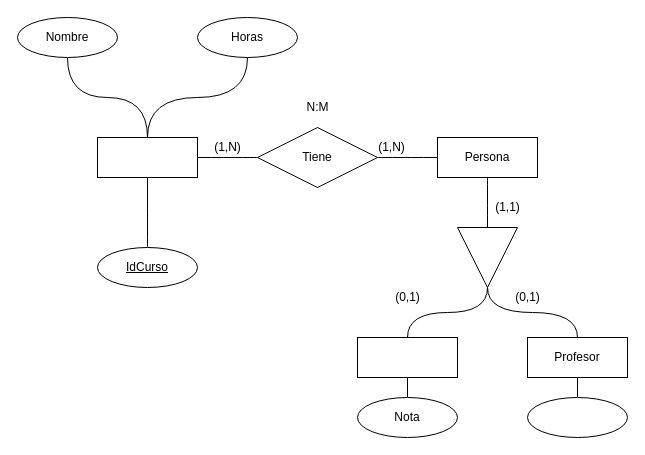
The diagram is 645 pixels wide and 455 high, and some of its shapes have lost their labels. Here are the shapes that lost their labels. From the top down, the box of each, then its label:
(96, 136, 198, 178): Curso
(456, 226, 518, 288): Es
(356, 336, 458, 378): Alumno
(526, 396, 628, 438): Asignatura
